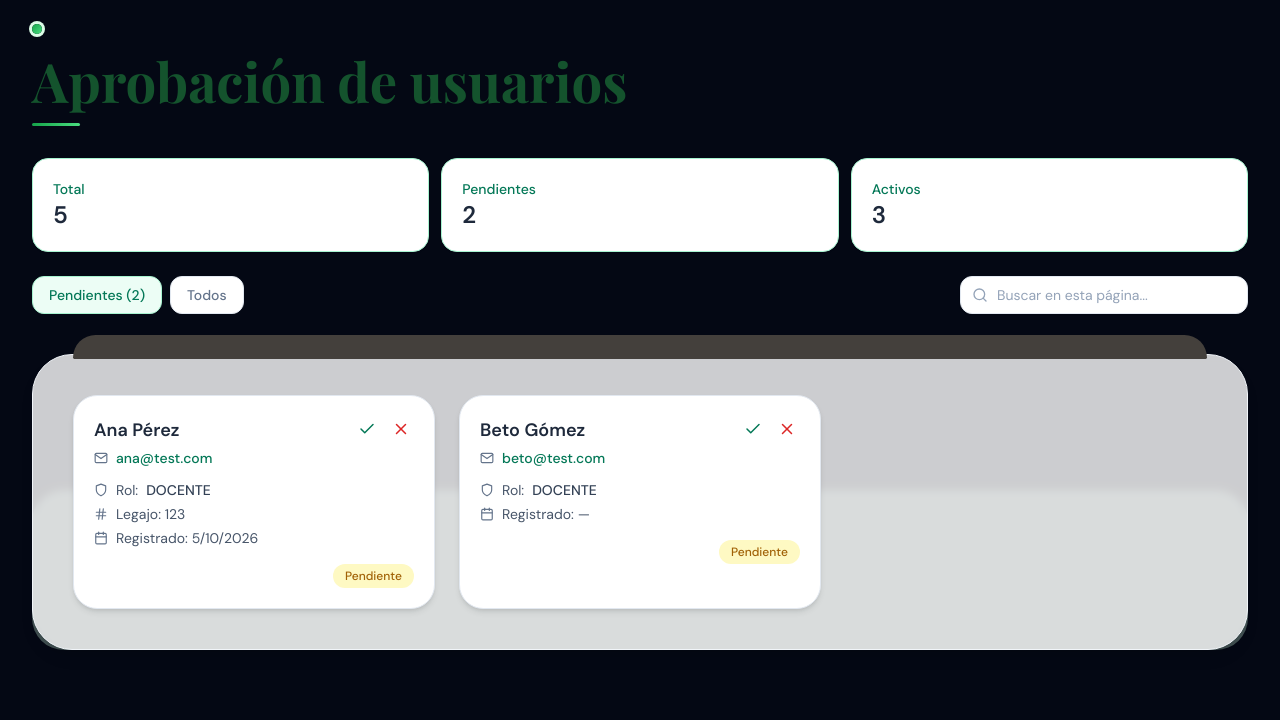
Test: AprobacionUsuarios Page › traduce los errores al aprobar
This screenshot has width=1280, height=720.
Click the button titled "Aprobar usuario" in the row of "Pérez" at (367, 429), box [354,416,380,442]
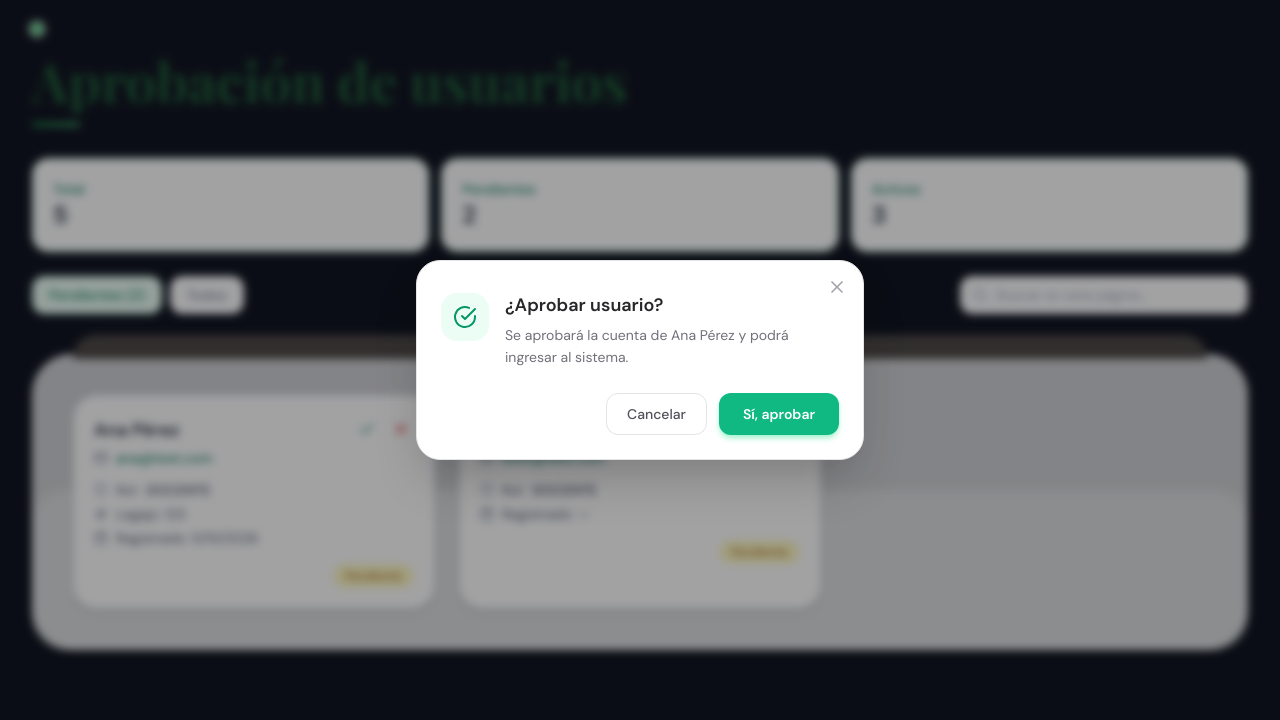
Click the button "Sí, aprobar" at (779, 414), box [719,393,839,435]
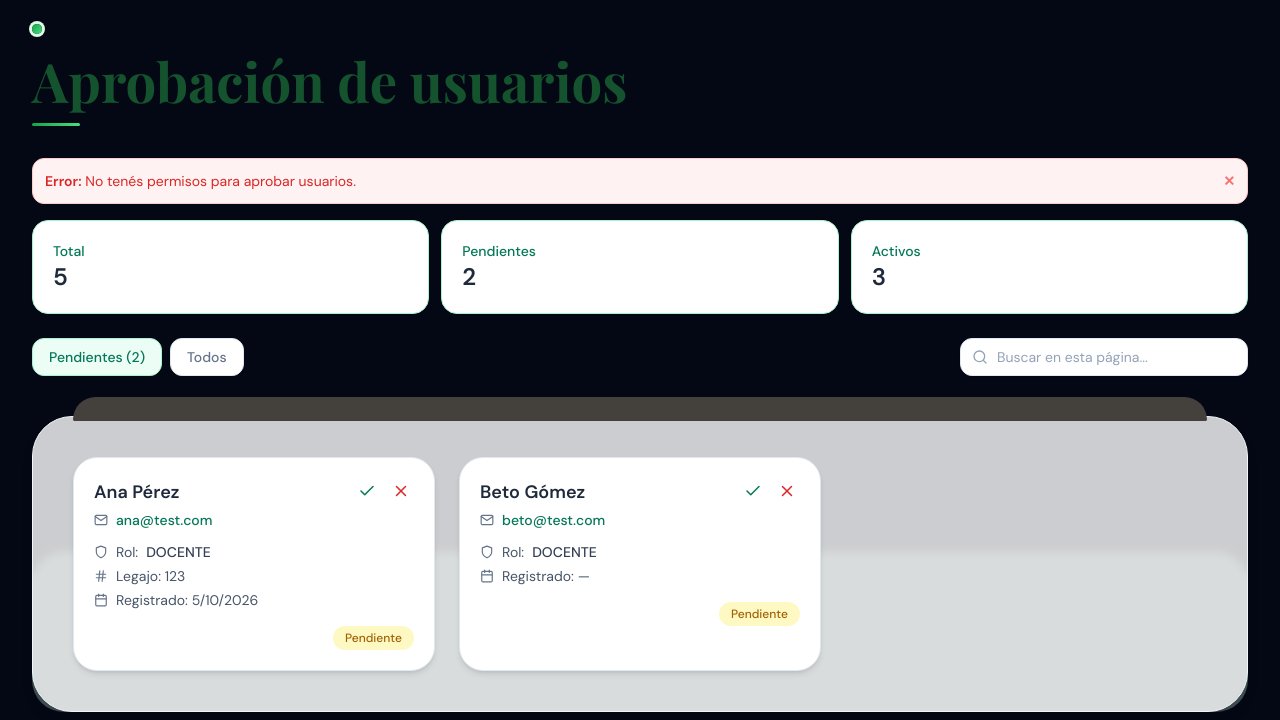
expect the text "No tenés permisos para aprobar usuarios." is shown: met, box [85,172,356,190]
